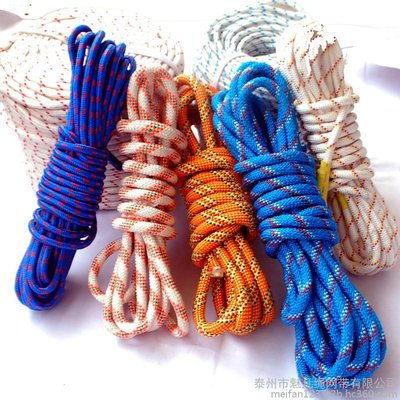9/可回收垃圾/绳子: (210, 60, 388, 392), (1, 4, 185, 210), (13, 24, 137, 312), (274, 17, 400, 278), (86, 65, 190, 341), (171, 74, 277, 340), (191, 1, 307, 89)
